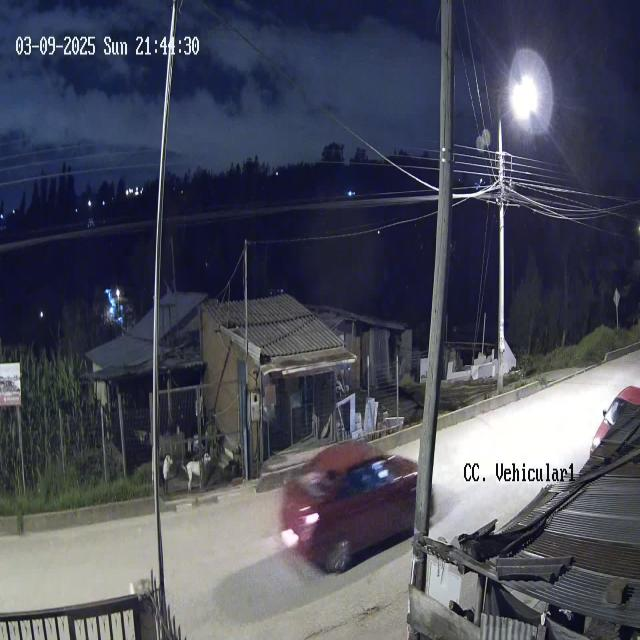SED: (280, 434, 432, 572)
